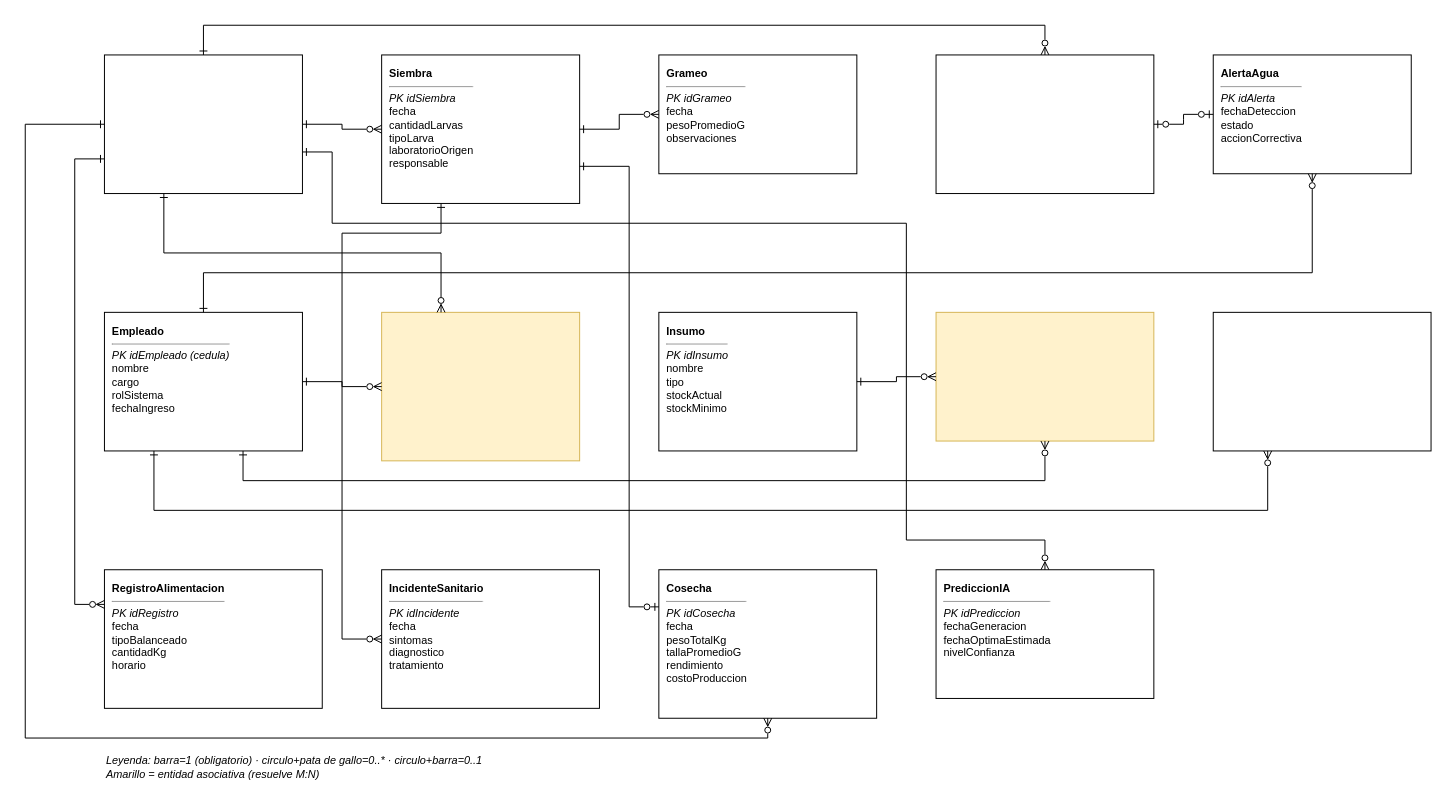
Some shapes in this 1448 by 805 pixel diagram are drawn without their labels. The centre of each missing label's shape, as x and y in pixels:
"Estanque PK idEstanque nombre superficieHa capacidadMaxLarvas estadoActual" goes at point (202, 124).
"MovimientoInventario (asociativa) PK idMovimiento fecha tipoMovimiento cantidad" goes at point (1044, 376).
"OrdenMantenimiento PK idOrden equipo tipoMantenimiento fecha estado" goes at point (1321, 381).
"ParametroAgua PK idParametro fechaHora tipoParametro valor origen (manual/IoT)" goes at point (1044, 124).
"TareaDiaria (asociativa) PK idTarea descripcion area fecha estadoCumplimiento" goes at point (480, 386).
